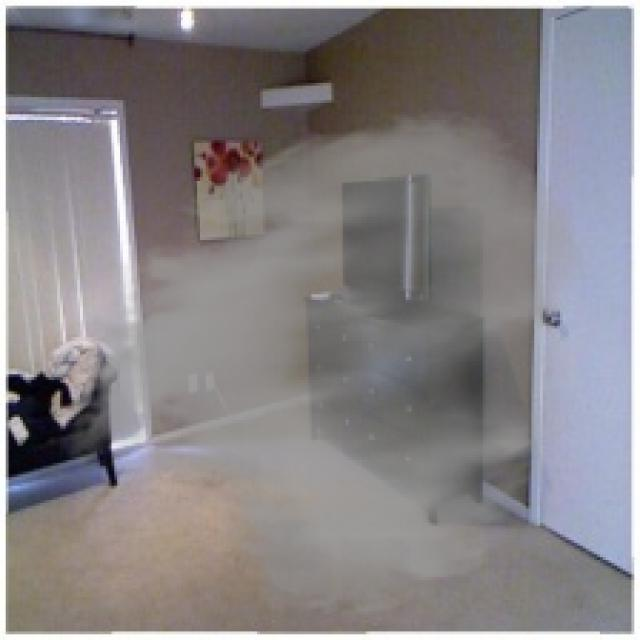smoke: (57, 106, 589, 620)
